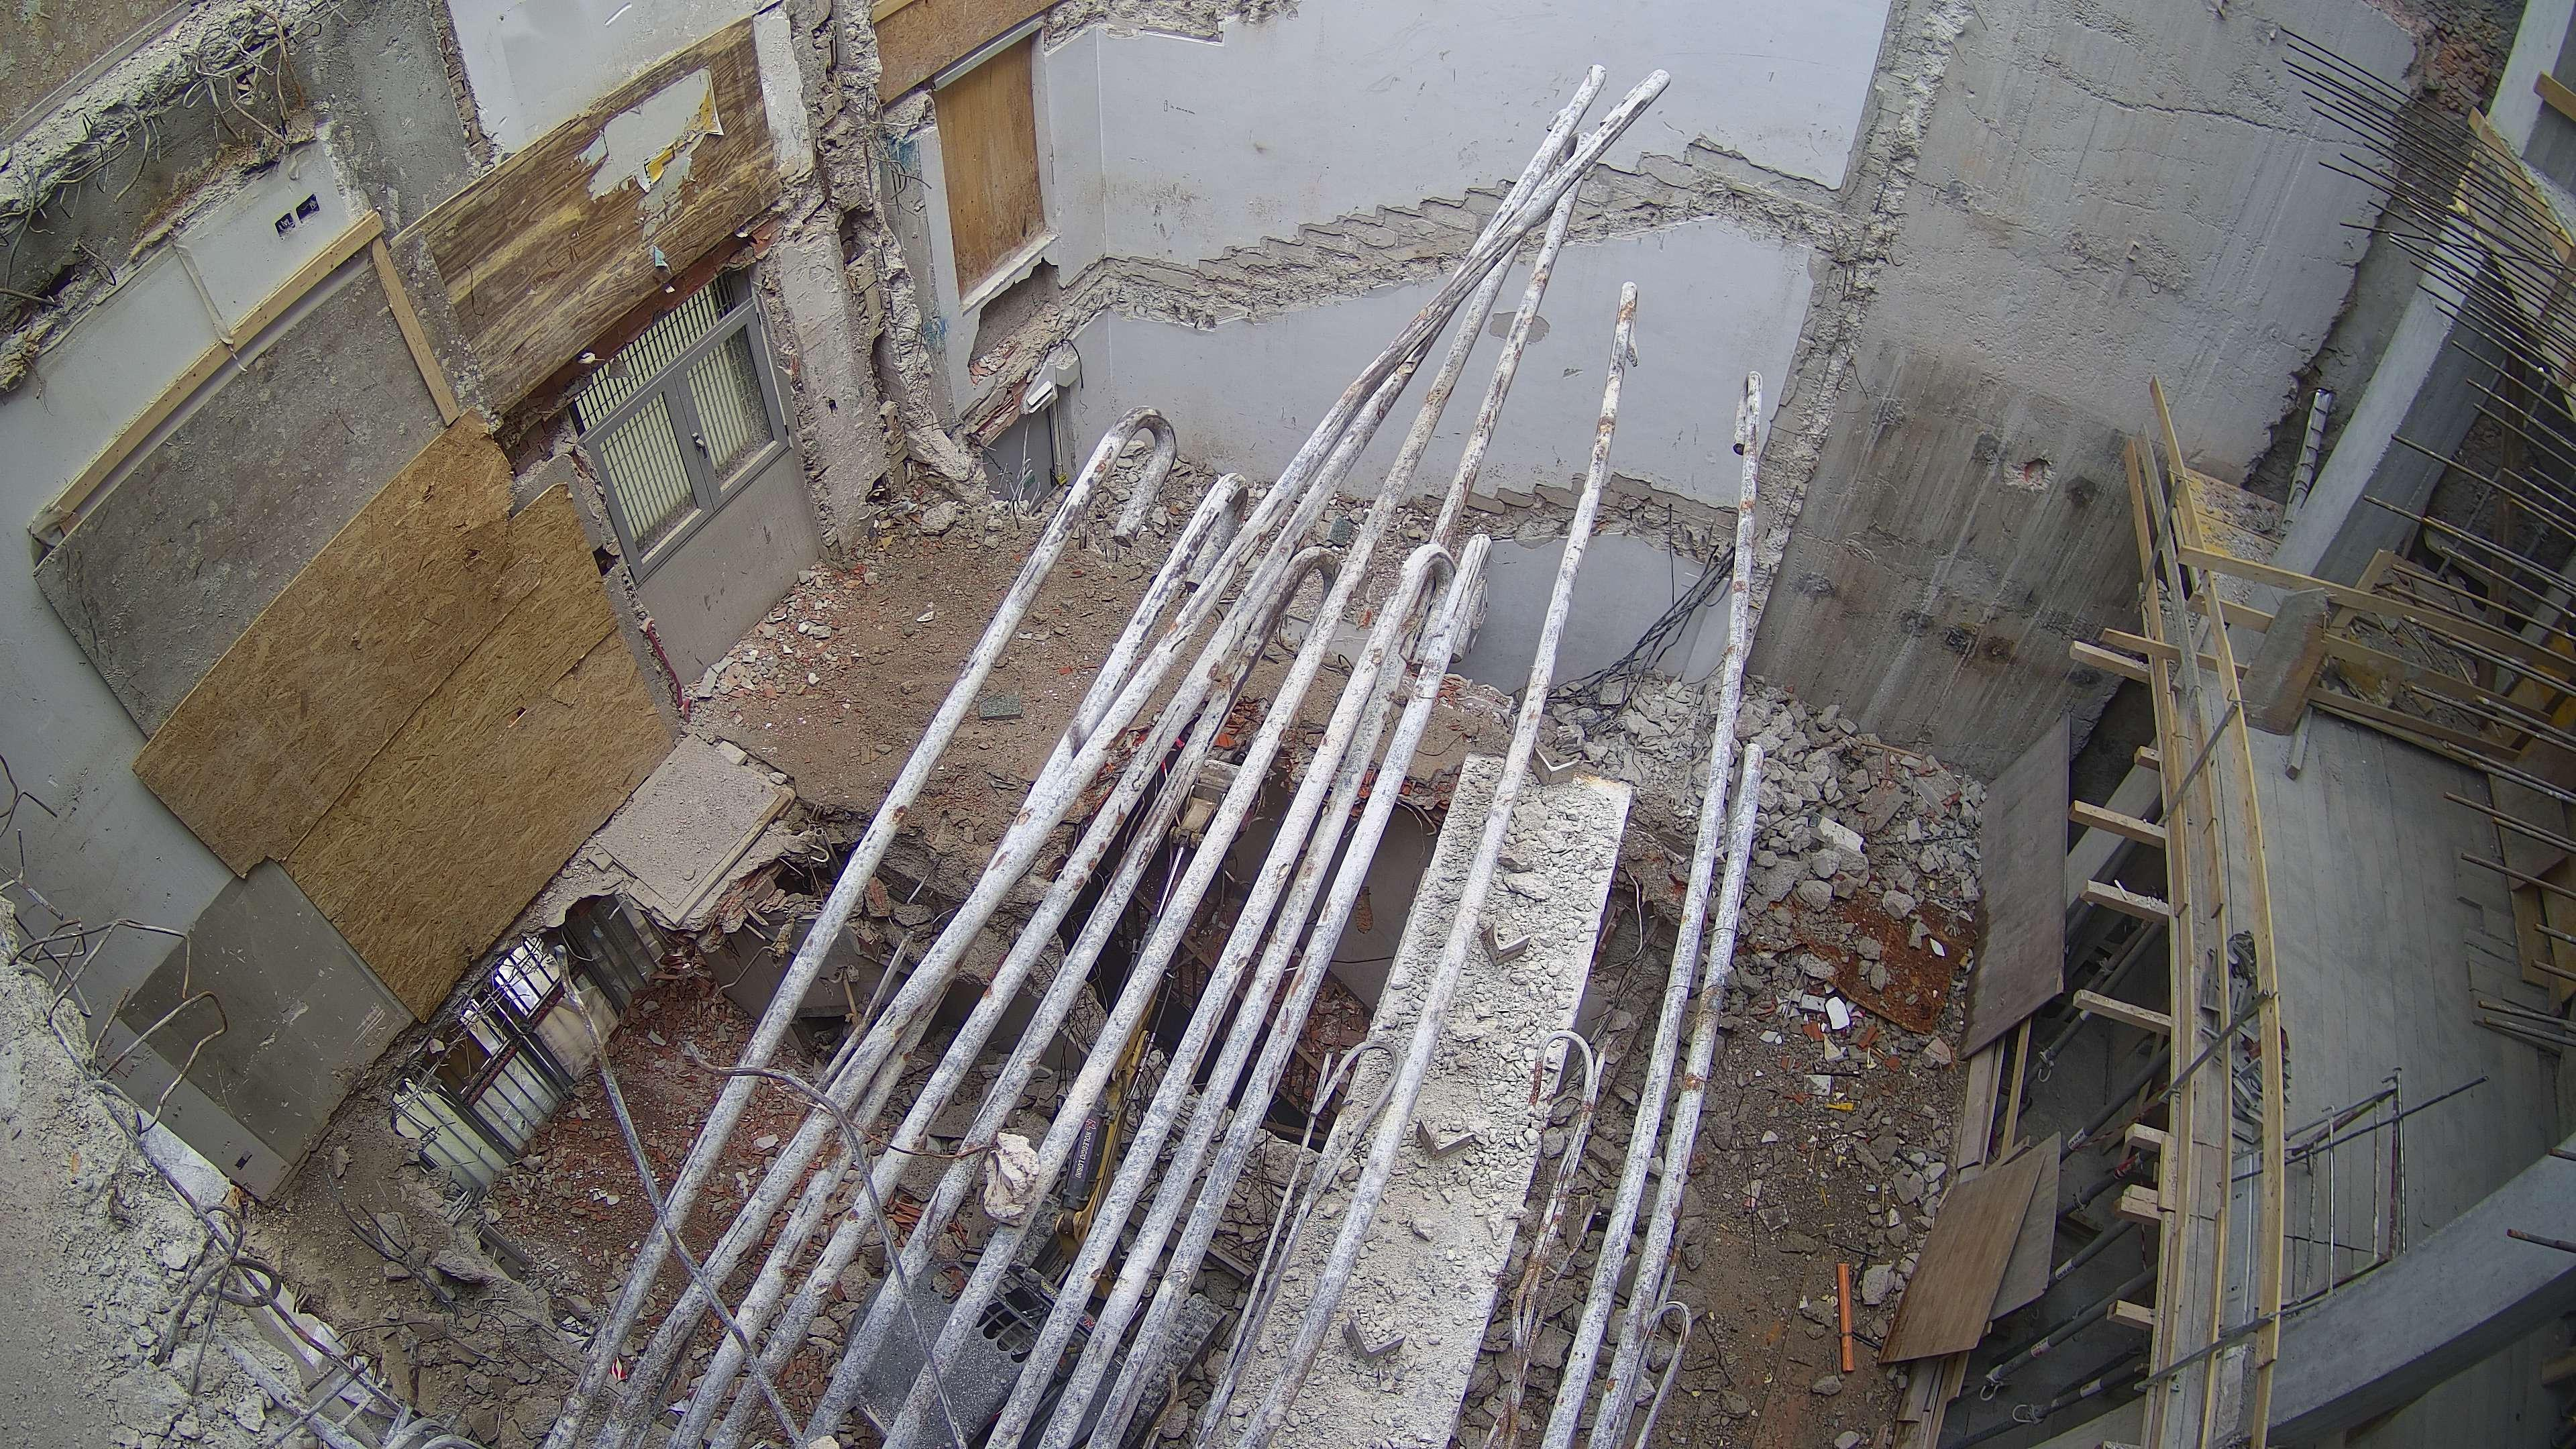excavator: (833, 759, 1265, 1449)
